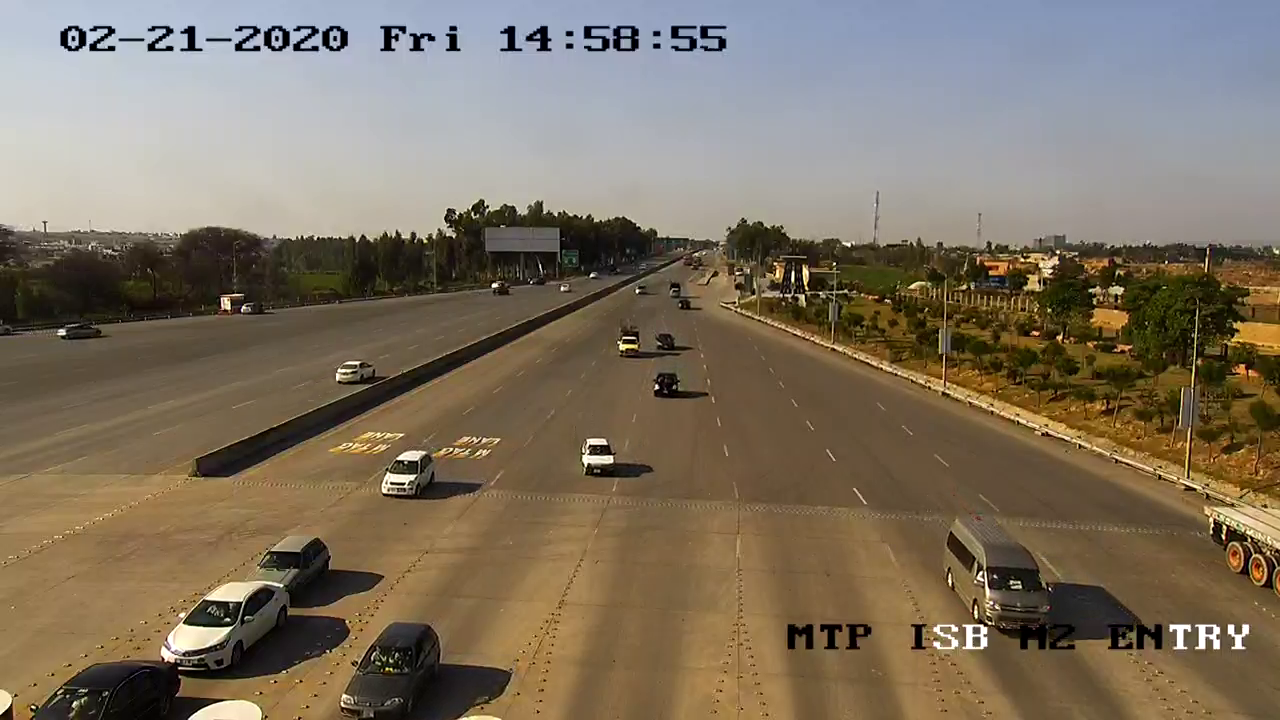f1: (152, 571, 295, 677), (329, 612, 457, 720), (373, 441, 438, 502), (574, 432, 626, 480)
f3: (920, 506, 1074, 643)
